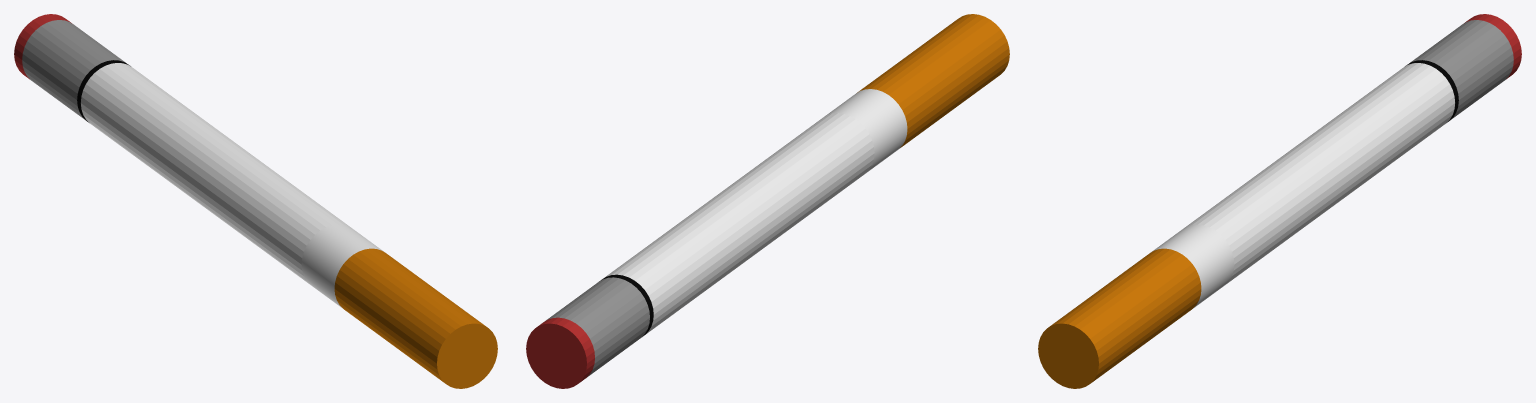
File: タバコ.fbx
The picture shows the model from 3 angles, left to right: view 1: azimuth 30°, elevation 25°; view 2: azimuth 150°, elevation 25°; view 3: azimuth 330°, elevation 25°; orthographic projection.
Parts seen in each view (by area): view 1: 円柱; view 2: 円柱; view 3: 円柱.
Part boxes in pixels (<box>): 円柱: <box>14,14,497,388</box>; 円柱: <box>526,14,1009,388</box>; 円柱: <box>1038,14,1521,388</box>.
Size of the model in its own units: 14.09 by 14.09 by 169.
